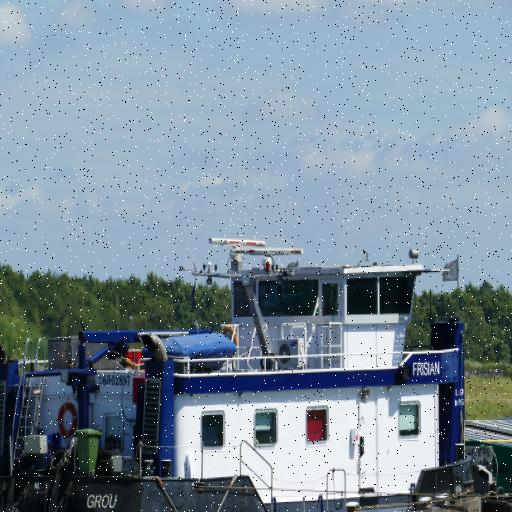tugboat: (1, 232, 501, 512)
